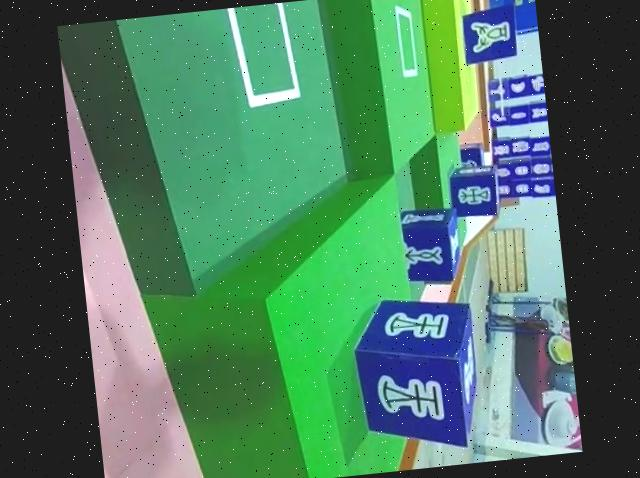R2 Real Blue: (347, 294, 485, 460), (395, 206, 463, 288), (458, 8, 518, 68), (447, 161, 501, 218)
